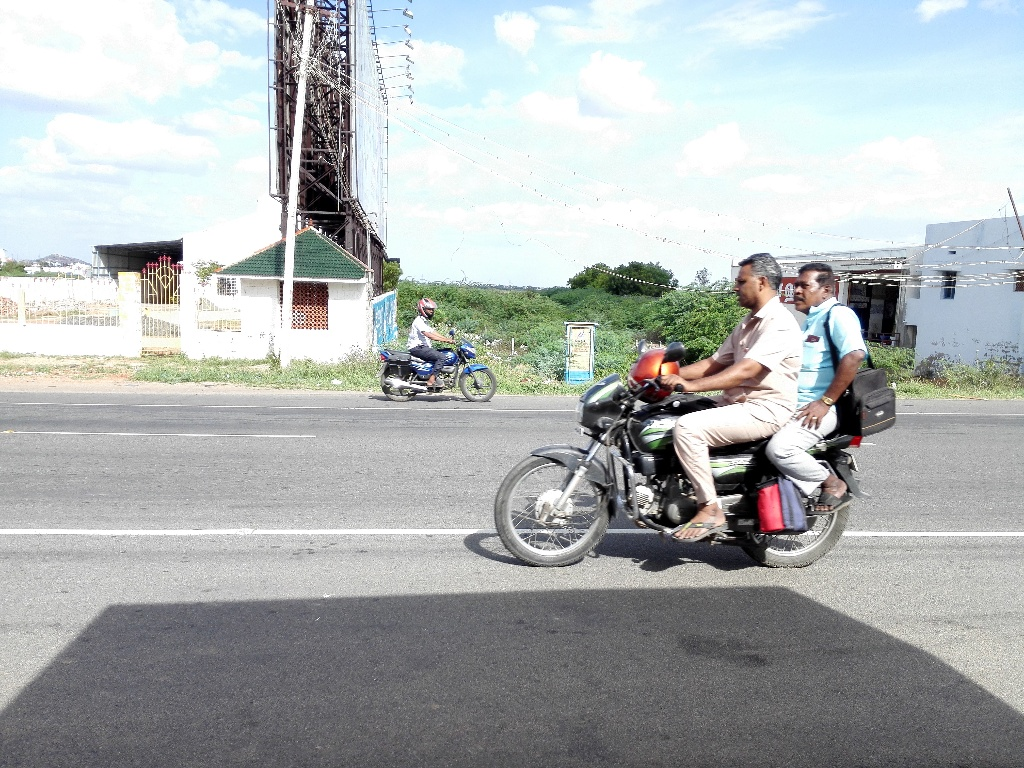biker: (486, 200, 913, 580), (367, 262, 505, 415)
nohelmet: (725, 247, 787, 321), (785, 251, 847, 325), (412, 287, 450, 329)
